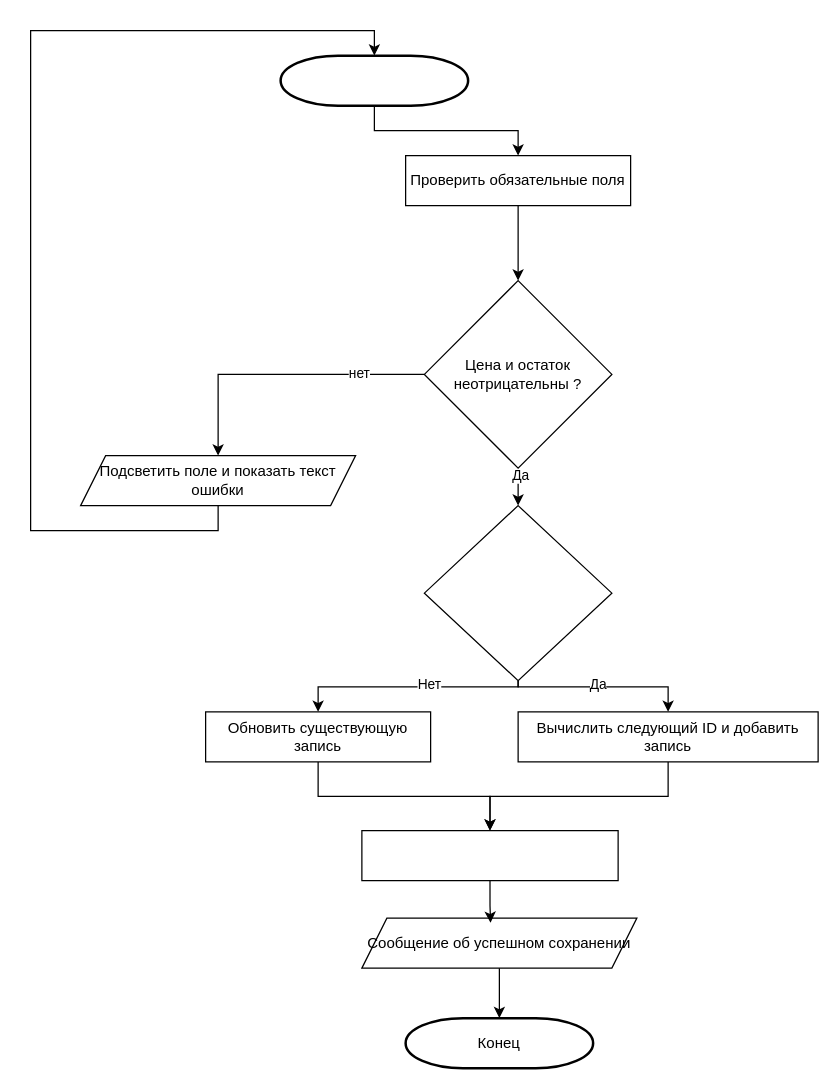
This 840x1091 diagram has some shape labels left out. Here are the shapes that lost their labels. From the top down, the centre of each, then its label:
the point at 374,80: Заполнена форма товара
the point at 517,592: Это новый товар ?
the point at 489,855: Создать форму и заново загрузиь каталог
